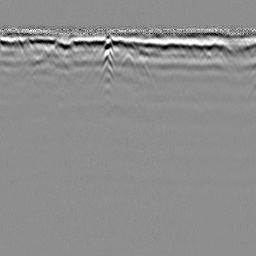cavity: (119, 50, 139, 74)
